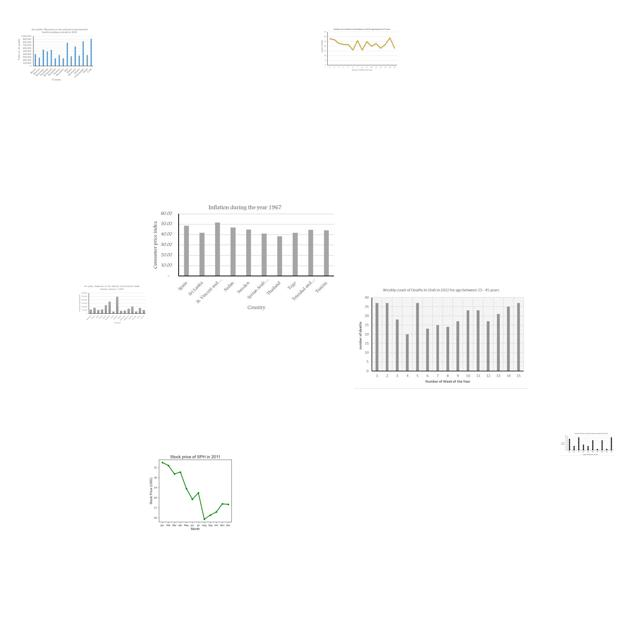Graph: (151, 202, 337, 311), (354, 285, 528, 389), (140, 450, 248, 531), (16, 27, 95, 83), (319, 26, 399, 73), (77, 284, 147, 325), (560, 432, 615, 456)
